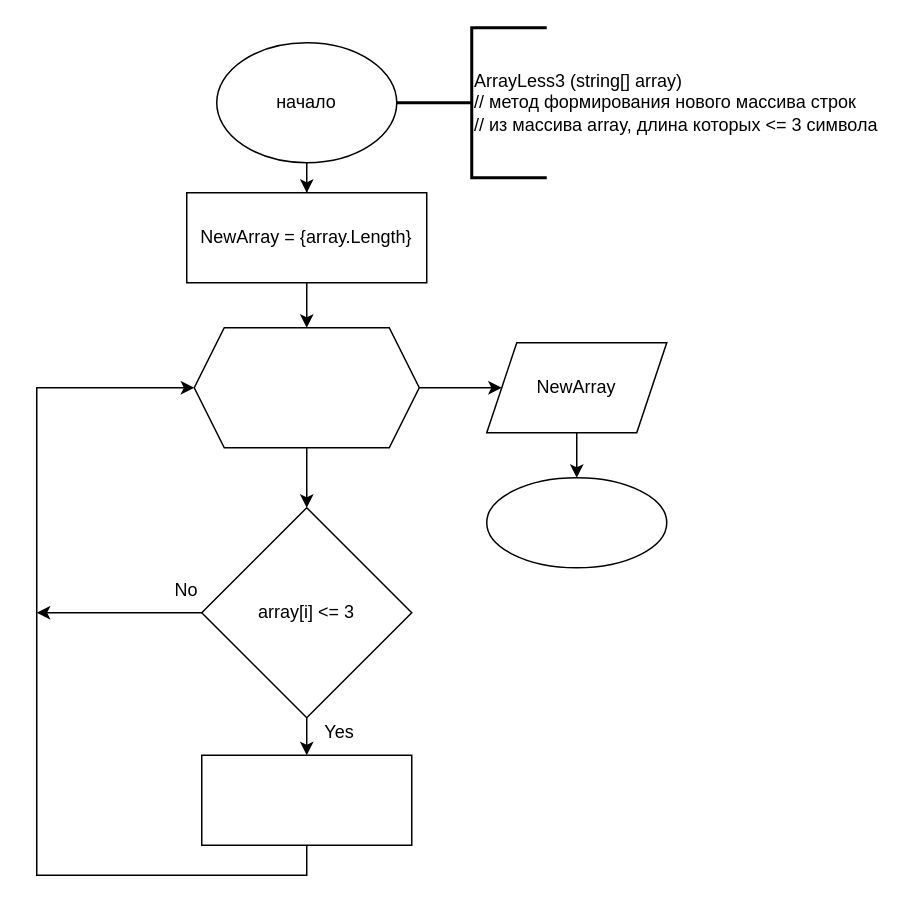
Some shapes in this 905 by 914 pixel diagram are drawn without their labels. The box of each missing label's shape, as (x1, y1, x2, y2) in pixels:
i = 0, i < array.Length,1: (193, 326, 419, 448)
NewArray[i] = array[i]: (200, 754, 412, 845)
конец: (485, 476, 667, 568)
